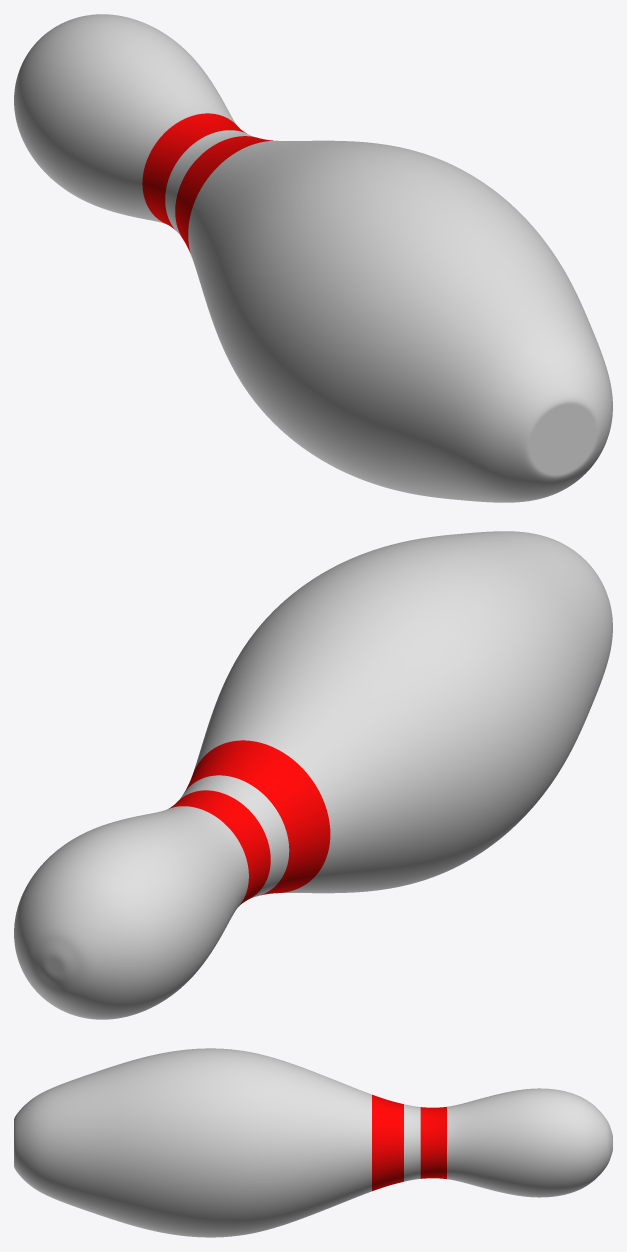
The model's file is Pin.fbx.
3 views of the same model, one above another, from view 1: azimuth 30°, elevation 25°; view 2: azimuth 150°, elevation 25°; view 3: azimuth 270°, elevation 25° (orthographic). The views are drawn at different scales.
Parts seen in each view (by area): view 1: Pin; view 2: Pin; view 3: Pin.
Boxes of the visible parts, left/top/right/bottom form: Pin: left=14, top=14, right=612, bottom=502; Pin: left=14, top=531, right=612, bottom=1019; Pin: left=14, top=1048, right=612, bottom=1237.
Size of the model in its own units: 12 by 12 by 38.
